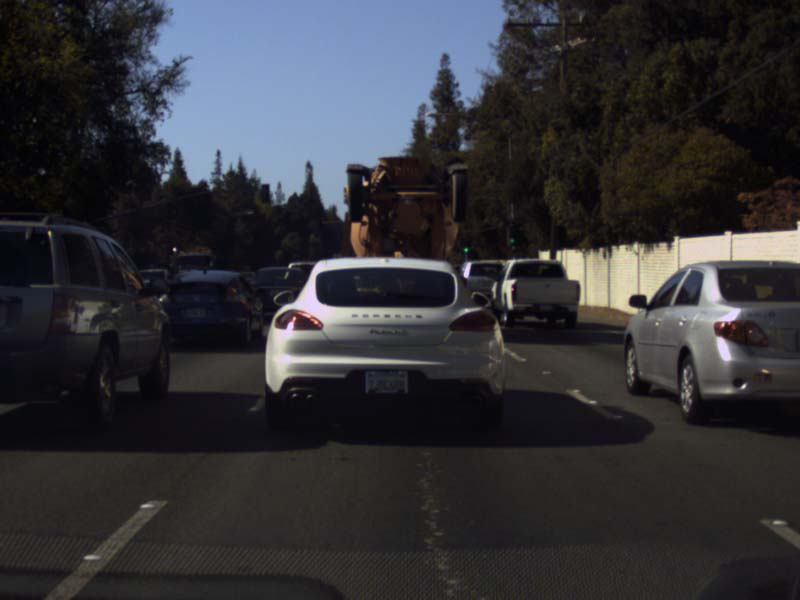Green: (506, 225, 515, 245), (461, 238, 468, 253)
